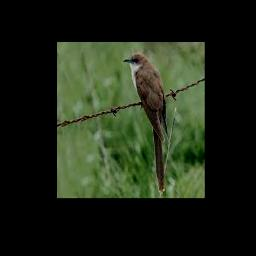Cuckoo: (123, 52, 168, 194)
